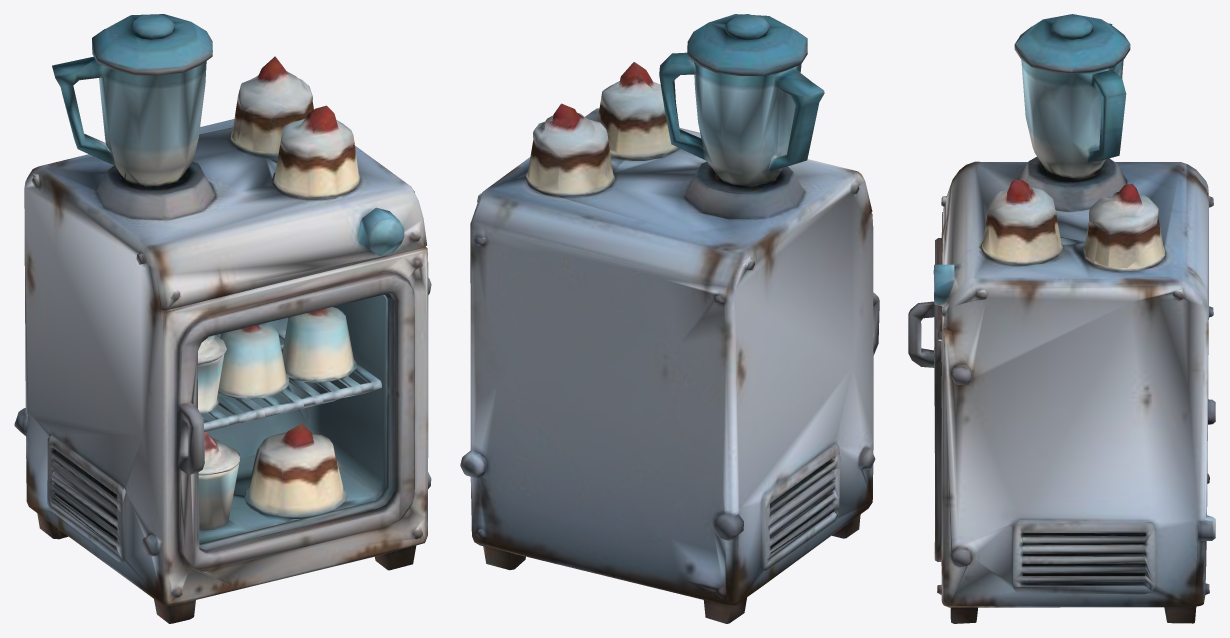
The model's file is tianpinji-2.glb.
3 views of the same model, side by side, from view 1: azimuth 30°, elevation 25°; view 2: azimuth 150°, elevation 25°; view 3: azimuth 270°, elevation 25° (orthographic). The views are drawn at different scales.
Visible parts, largest first — view 1: node_0; view 2: node_0; view 3: node_0.
Part boxes in pixels (x1,y1,x2,y2): node_0: (14, 14, 431, 623); node_0: (460, 14, 879, 623); node_0: (908, 14, 1215, 623).
Size of the model in its own units: 0.5774 by 0.9925 by 0.5408.
1 material, 1 textured.
